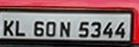0: (45, 19, 56, 37)
3: (89, 20, 101, 37)
4: (102, 19, 114, 38), (114, 19, 126, 38)
5: (77, 20, 89, 37)
6: (33, 20, 45, 36)
K: (2, 18, 13, 35)
L: (13, 19, 26, 36)
N: (58, 20, 71, 38)
